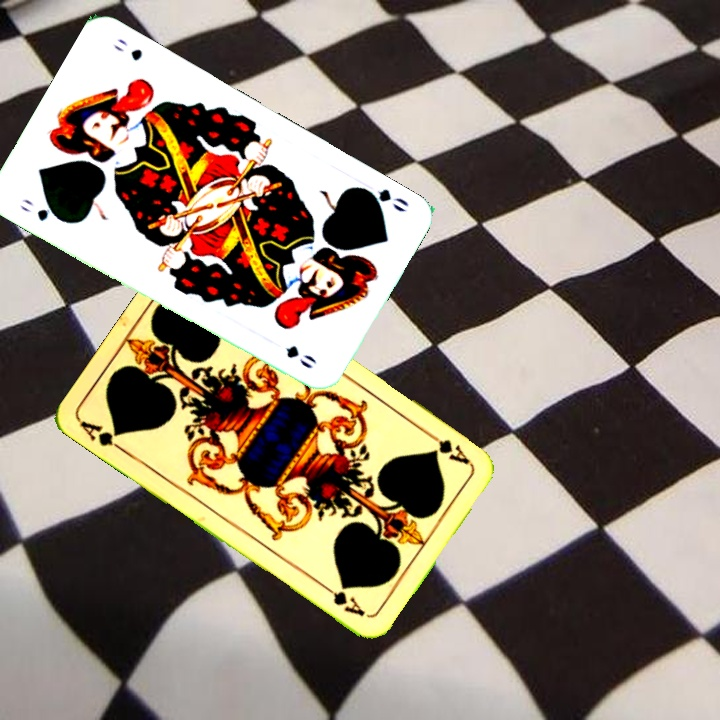GA: (76, 416, 129, 456), (422, 427, 473, 468)
GO: (354, 182, 412, 215), (16, 194, 67, 225)
